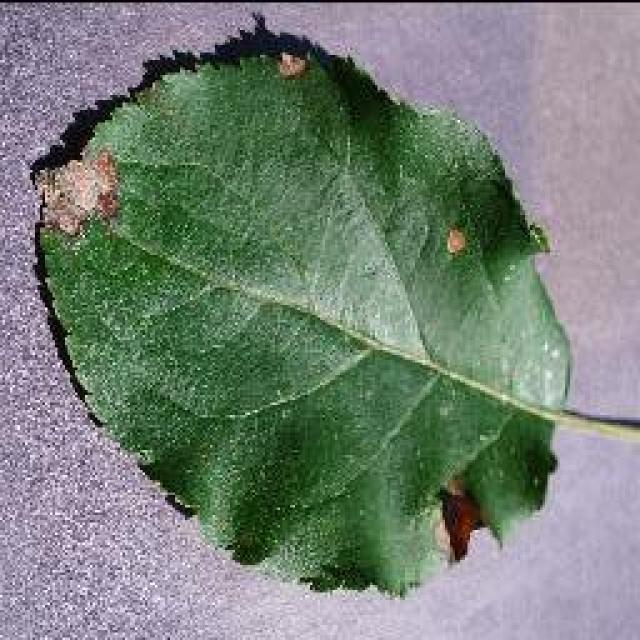Black_rot: (28, 12, 638, 598)
